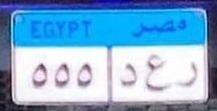5: (74, 60, 94, 94), (52, 60, 72, 91), (29, 60, 49, 91)
ain: (144, 51, 170, 95)
daal: (117, 59, 139, 90)
raa: (174, 57, 198, 92)
